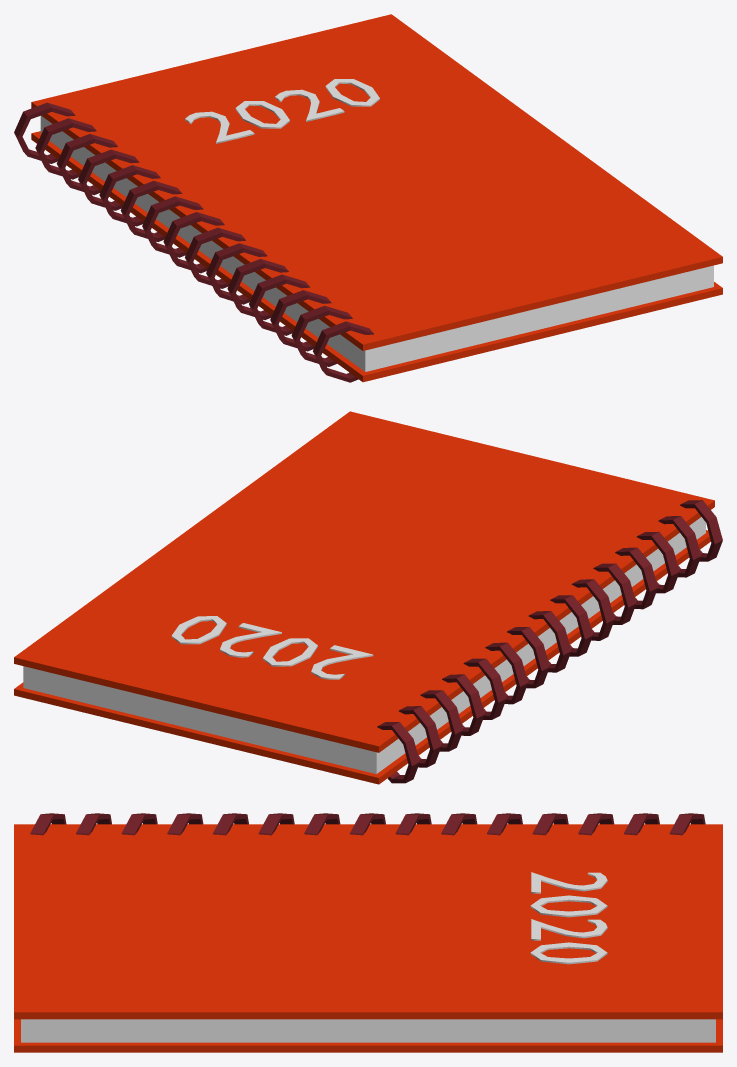
File: Agenda.fbx
3 views of the same model, one above another, from view 1: azimuth 30°, elevation 25°; view 2: azimuth 150°, elevation 25°; view 3: azimuth 270°, elevation 25° (orthographic). The views are drawn at different scales.
Visible parts, largest first — view 1: Agenda; view 2: Agenda; view 3: Agenda.
Boxes of the visible parts, x1=… form: Agenda: x1=14, y1=14, x2=722, y2=382; Agenda: x1=14, y1=411, x2=722, y2=784; Agenda: x1=14, y1=813, x2=722, y2=1052.
Size of what is drawn, in the model's own units: 23.21 by 3.24 by 34.44.
